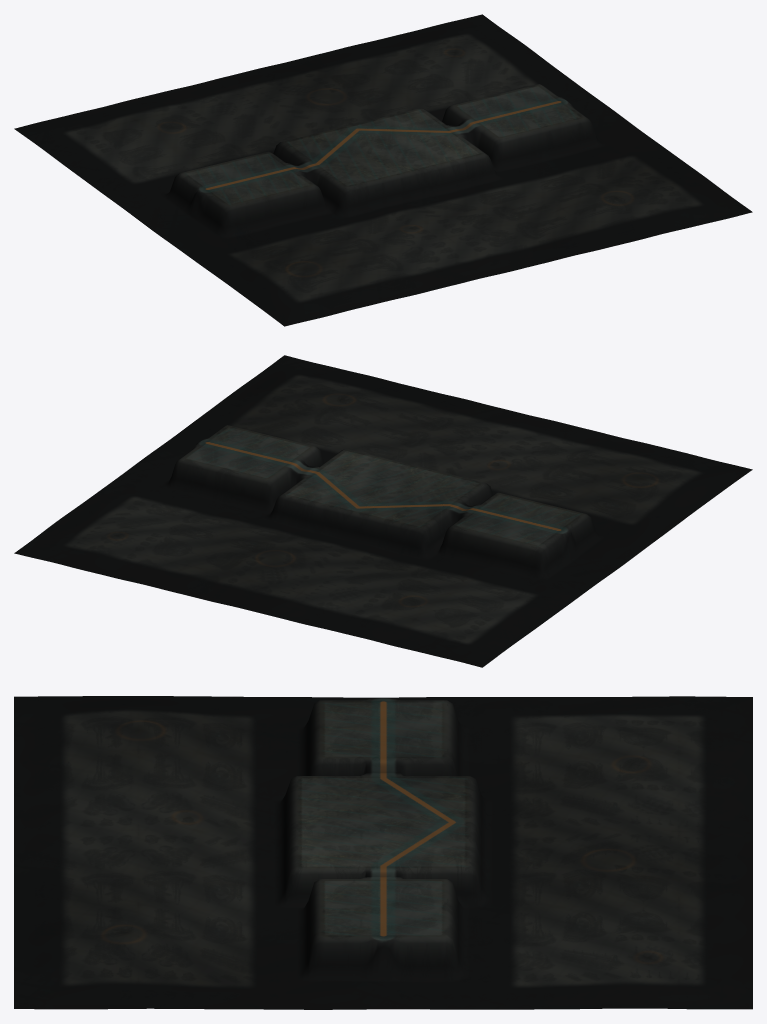
The model's file is low-orbit-terrain.glb.
3 views of the same model, one above another, from view 1: azimuth 30°, elevation 25°; view 2: azimuth 150°, elevation 25°; view 3: azimuth 270°, elevation 25° (orthographic). The views are drawn at different scales.
Parts seen in each view (by area): view 1: LowOrbitTerrain; view 2: LowOrbitTerrain; view 3: LowOrbitTerrain.
Part boxes in pixels (box(x1,y1,x2,y2)): LowOrbitTerrain: box(14, 14, 752, 326); LowOrbitTerrain: box(14, 355, 752, 667); LowOrbitTerrain: box(14, 696, 752, 1009).
Bounding box in the file's own units: 128 × 6.95 × 128.
1 material, 1 textured.
